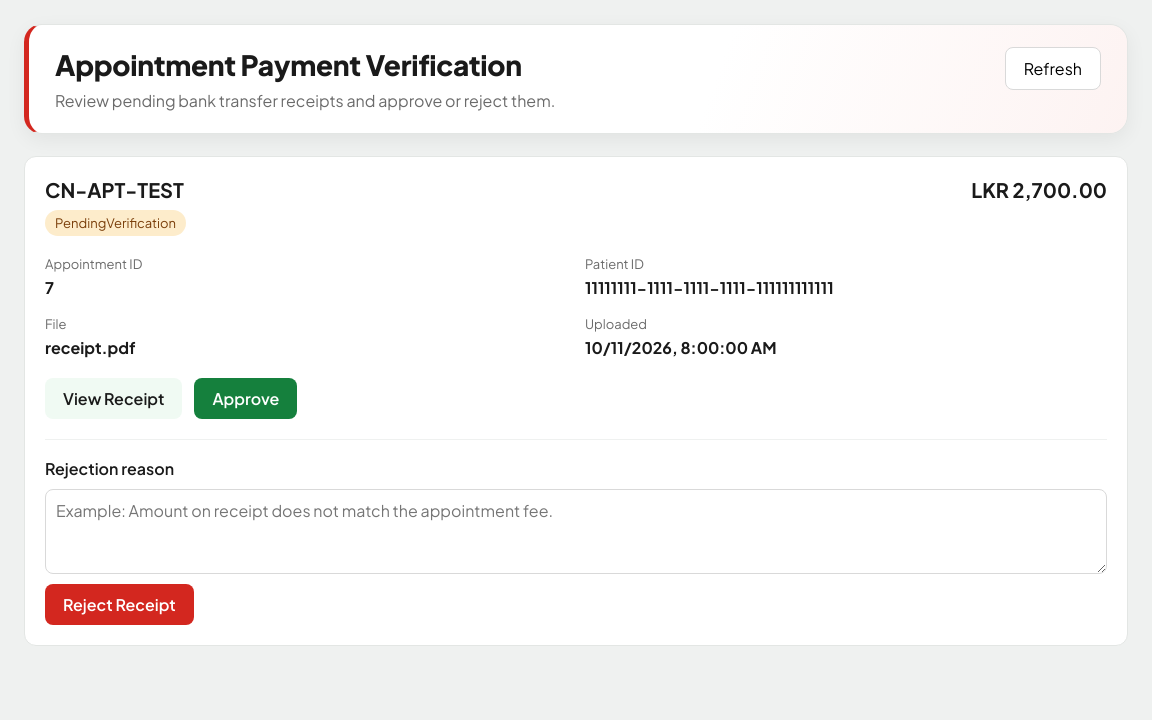
Test: approves the correct appointment and removes the reviewed receipt after refresh
The image size is (1152, 720).
Click the button "Approve": (246, 398) [194,378,297,419]
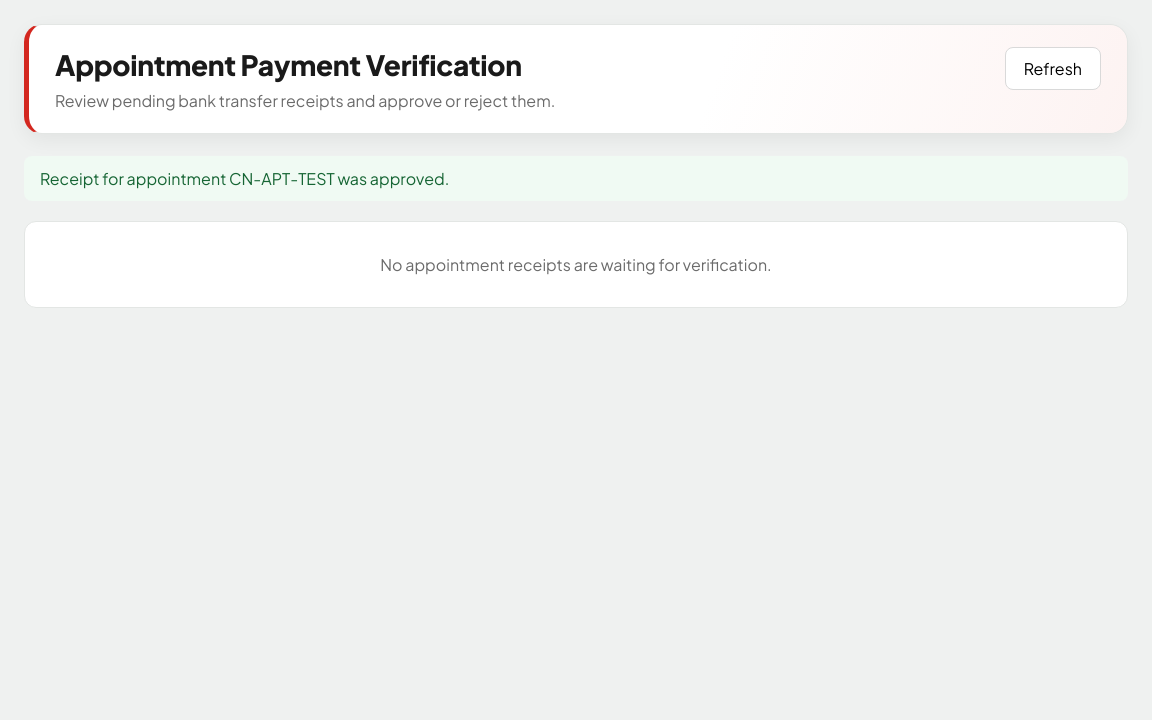
Expected: the text "Receipt for appointment CN-APT-TEST was approved." is shown, [24,156,1128,201]
Expected: the text "No appointment receipts are waiting for verification." is shown, [24,221,1128,308]
